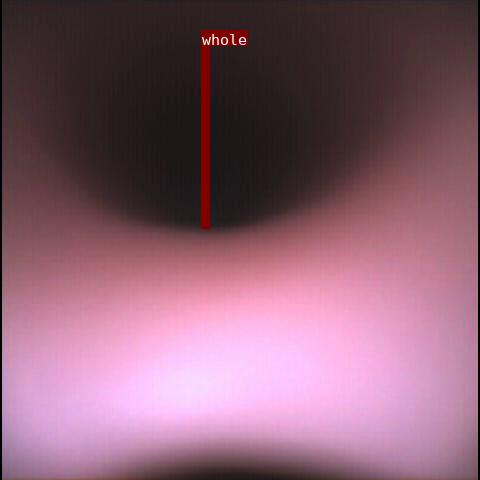whole: (201, 46, 209, 228)
